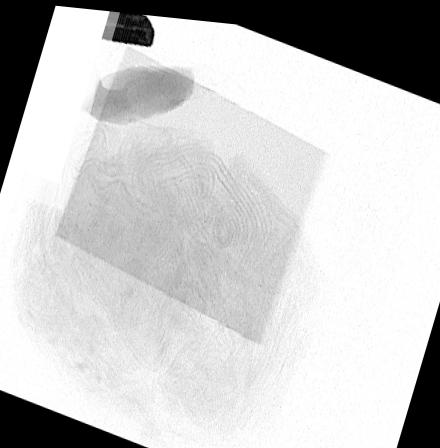Lighter: (91, 8, 154, 43)
